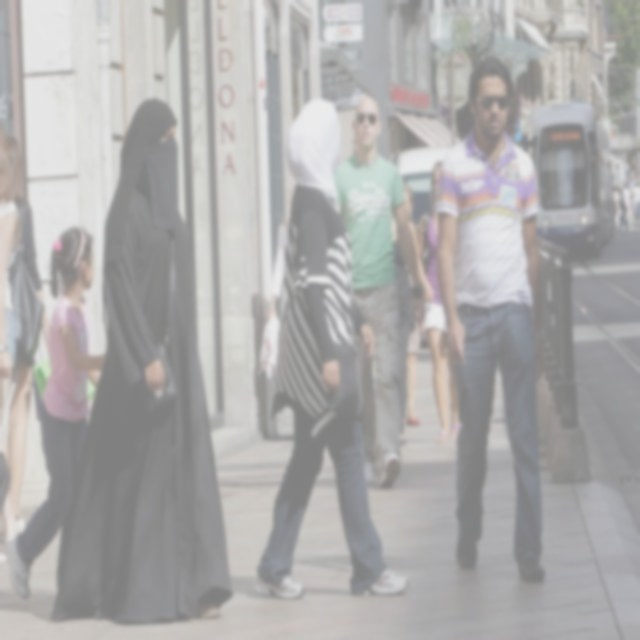pessoa: (49, 96, 234, 625), (251, 93, 416, 604), (431, 52, 549, 588), (4, 224, 108, 606), (331, 95, 426, 492), (337, 112, 416, 450), (1, 130, 54, 530), (415, 158, 462, 448), (398, 178, 424, 430), (269, 204, 291, 329), (617, 186, 629, 233), (621, 180, 633, 220), (629, 180, 639, 224), (610, 182, 619, 228)
